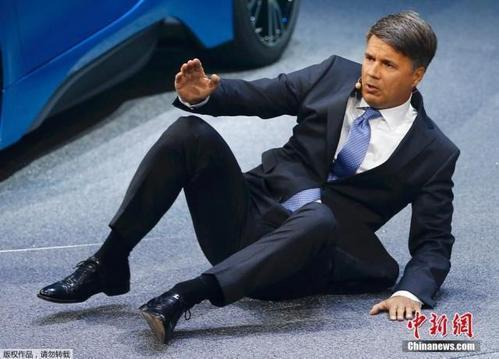Fall-Detected: (26, 0, 473, 359)
